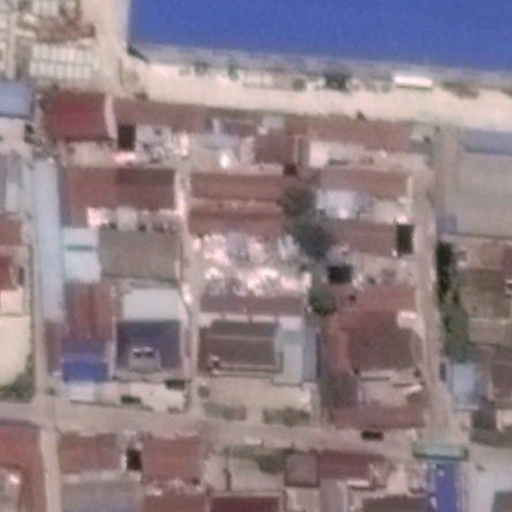msw: (198, 229, 309, 299)
